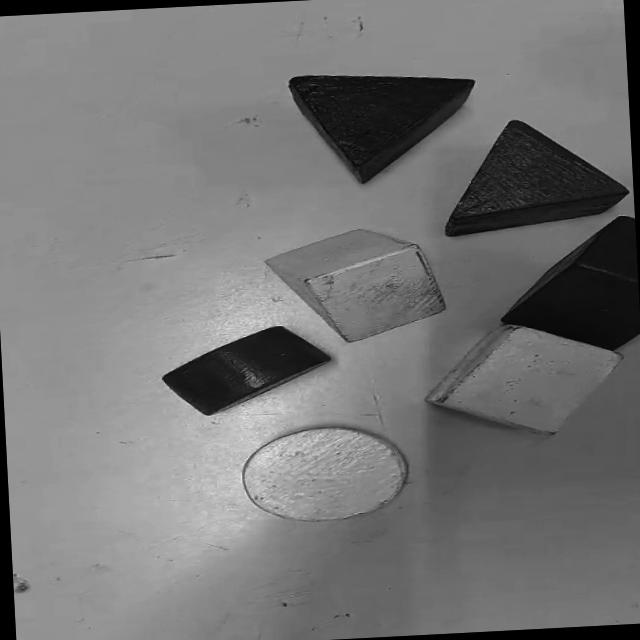bcircle: (163, 326, 330, 415)
btriangle: (289, 76, 475, 183)
rcube: (501, 216, 639, 350)
rtriangle: (445, 121, 628, 236)
ycircle: (243, 427, 406, 522)
ycube: (426, 325, 621, 434)
ytriangle: (265, 230, 445, 343)
